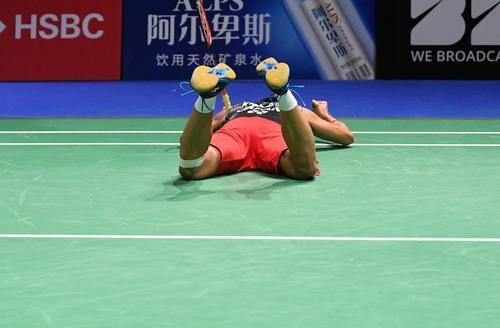Fall-Detected: (156, 47, 358, 184)
